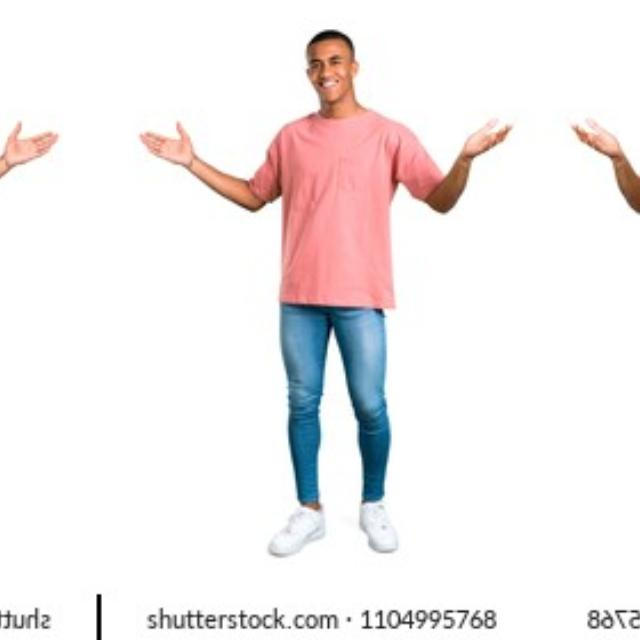person: (202, 29, 506, 565), (576, 29, 640, 565)
